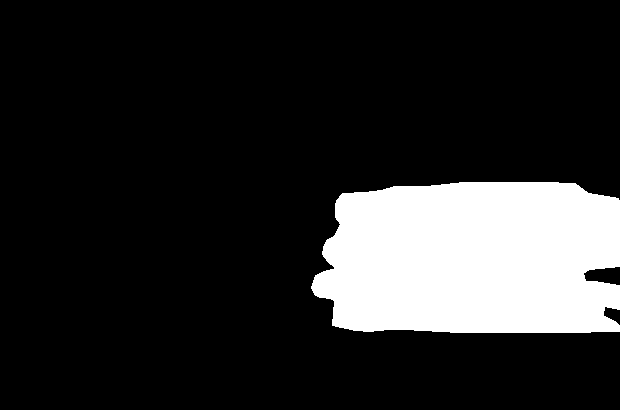type4: (306, 181, 620, 335)
